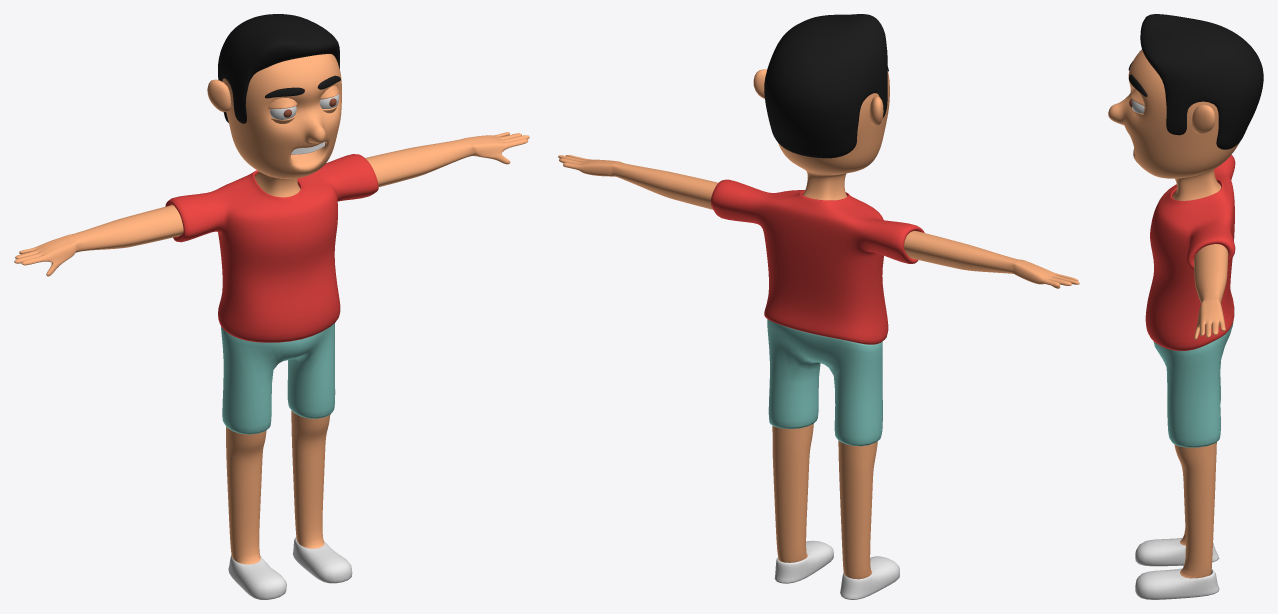
File: character_1.fbx
The picture shows the model from 3 angles, left to right: view 1: azimuth 30°, elevation 25°; view 2: azimuth 150°, elevation 25°; view 3: azimuth 270°, elevation 25°; orthographic projection.
Parts seen in each view (by area): view 1: body, tshirt, pants, hair, shoes; view 2: body, tshirt, hair, pants, shoes; view 3: body, hair, tshirt, pants, shoes, ears.
Part boxes in pixels (x1,y1,x2,y2): body: [14, 54, 529, 564]; tshirt: [165, 154, 378, 342]; pants: [221, 323, 335, 434]; hair: [218, 14, 339, 123]; shoes: [228, 537, 352, 599]; body: [558, 70, 1079, 579]; tshirt: [711, 179, 924, 344]; hair: [764, 14, 887, 158]; pants: [767, 319, 882, 446]; shoes: [774, 540, 899, 599]; body: [1108, 49, 1239, 578]; hair: [1140, 14, 1263, 149]; tshirt: [1145, 155, 1235, 350]; pants: [1153, 322, 1233, 447]; shoes: [1135, 537, 1219, 599]; ears: [1192, 105, 1215, 134].
Size of the model in its own units: 172 by 176 by 45.
